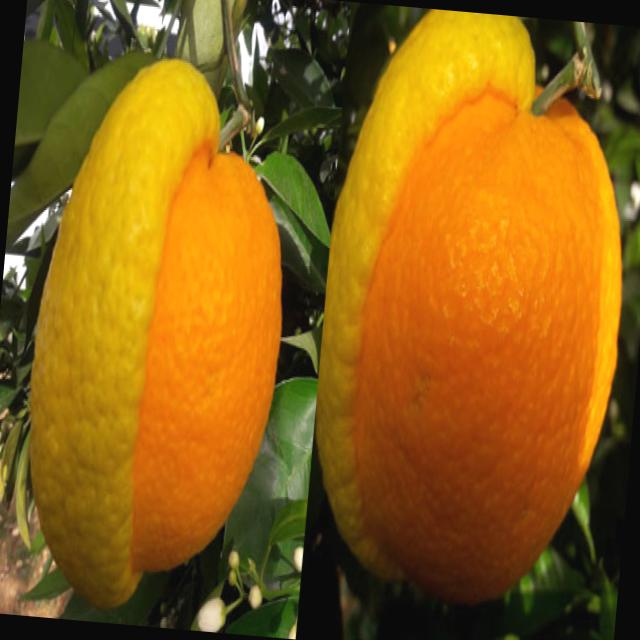orange: (309, 64, 636, 634), (29, 109, 310, 582)
